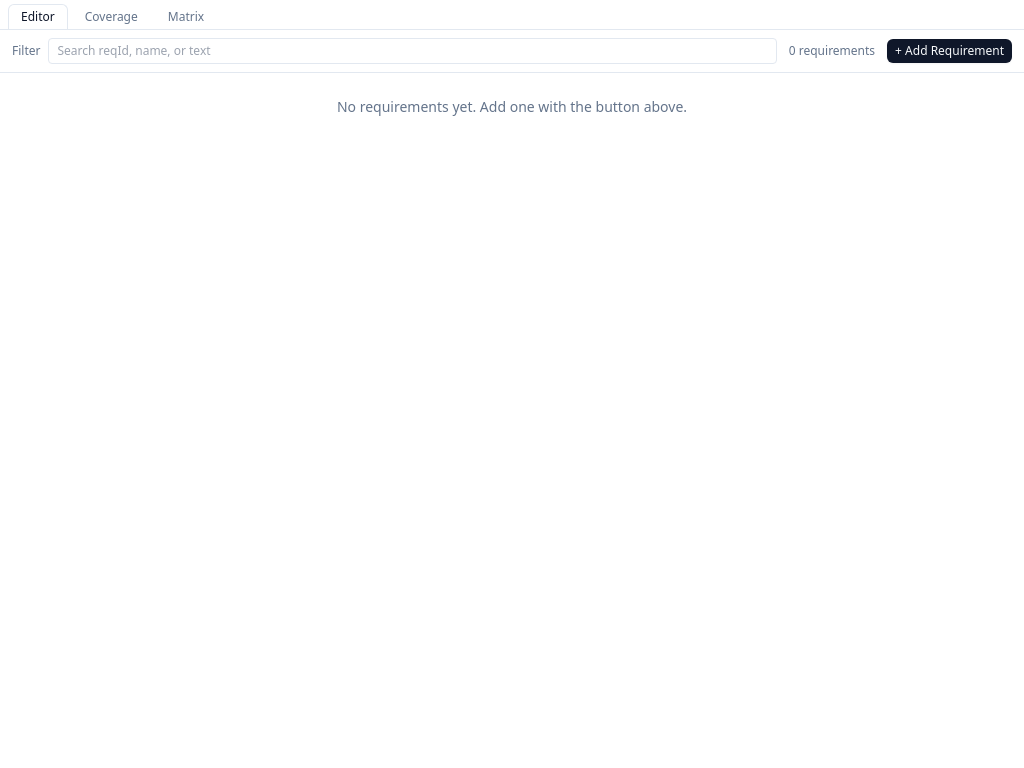
Test case: <RequirementsSurface /> › Add Requirement button creates a requirement and selects it
Click the button with test id "requirements-surface-add".
click(950, 51)  # box [887, 39, 1012, 63]
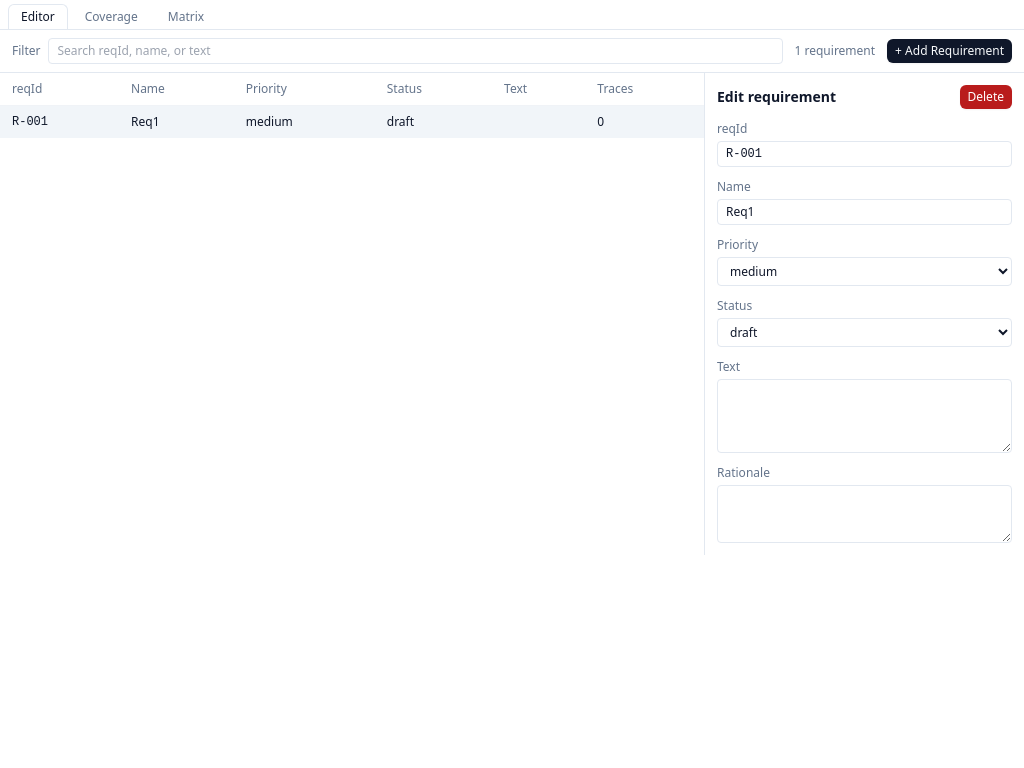
Check: the element with test id "requirements-surface-form" is shown, box [704, 73, 1023, 555]
